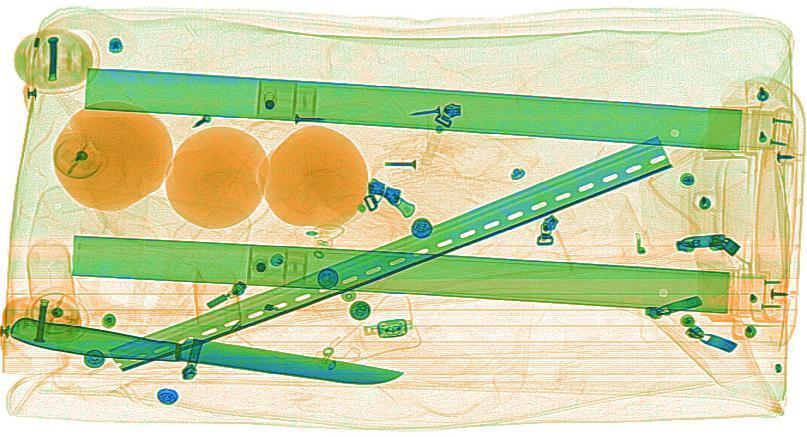Knife: (1, 314, 405, 394)
